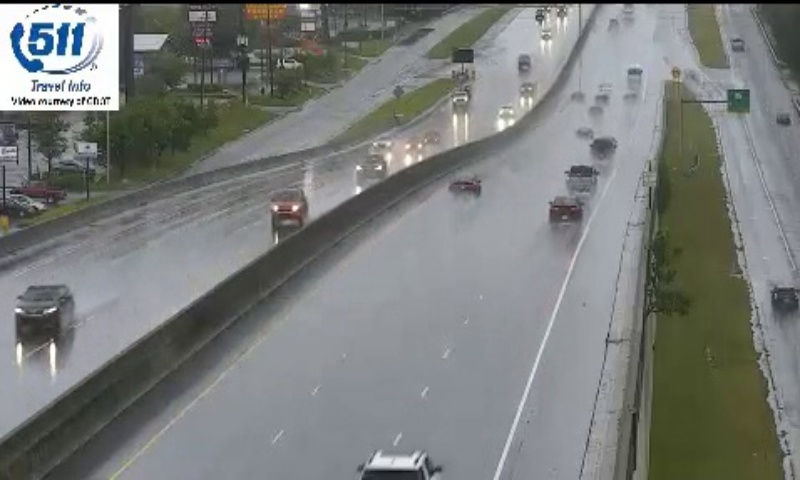car: (548, 196, 580, 224), (448, 175, 480, 198), (567, 167, 597, 190)
